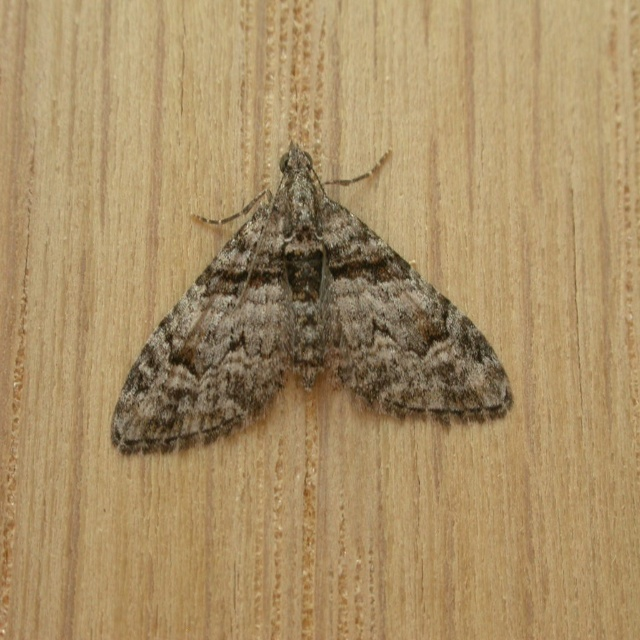Moths and butterflies: (110, 137, 513, 459)
